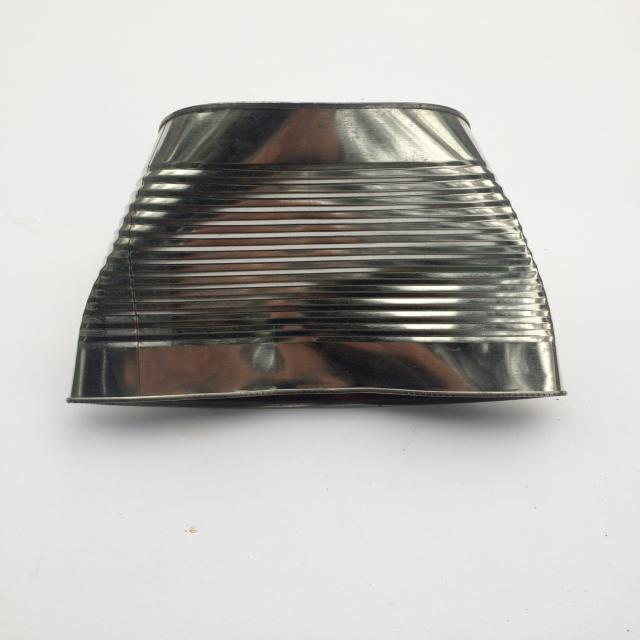metal: (64, 99, 568, 416)
